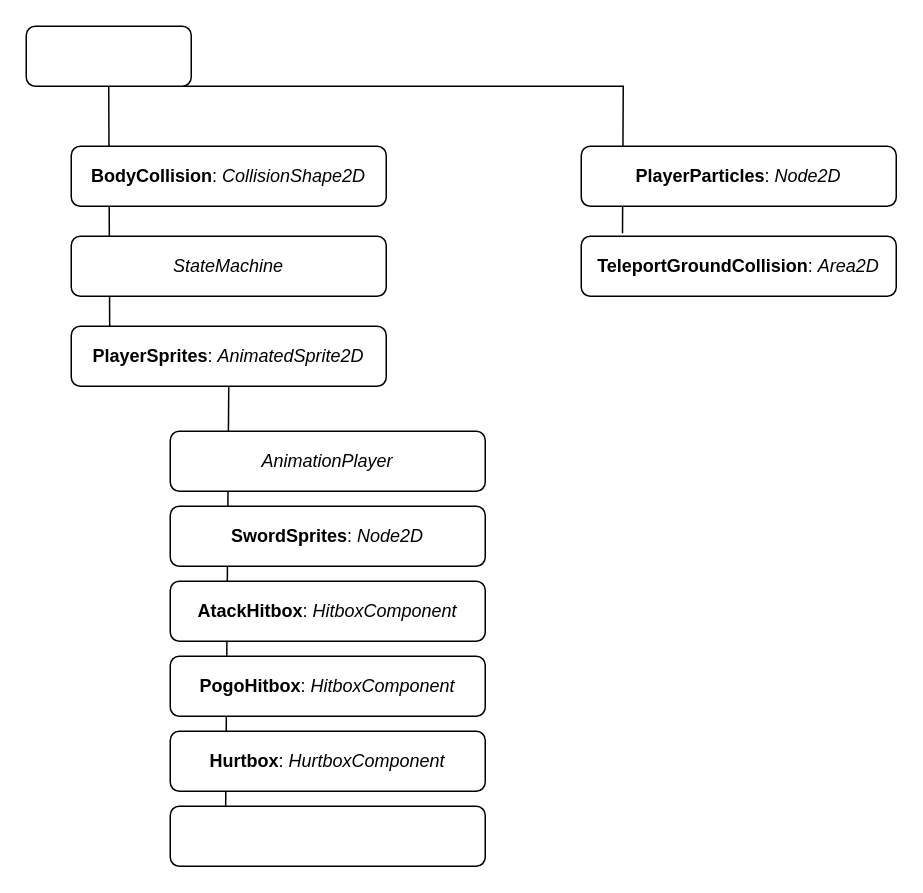
The diagram is 923 pixels wide and 893 high, and some of its shapes have lost their labels. Here are the shapes that lost their labels. From the top down, the centre of each, then its label:
At [108,55]: "Player".
At [327,835]: "ShootingPoint : Marker2D".
